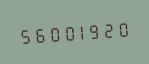five: (17, 24, 30, 47)
nine: (87, 19, 100, 42)
one: (73, 20, 86, 43)
six: (31, 23, 44, 46)
two: (101, 18, 114, 41)
zero: (45, 22, 58, 45), (59, 21, 72, 44), (115, 17, 128, 40)
